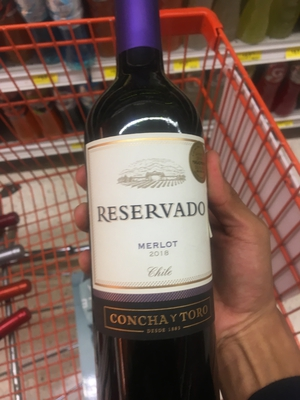reservado merlot: (78, 1, 231, 373)
